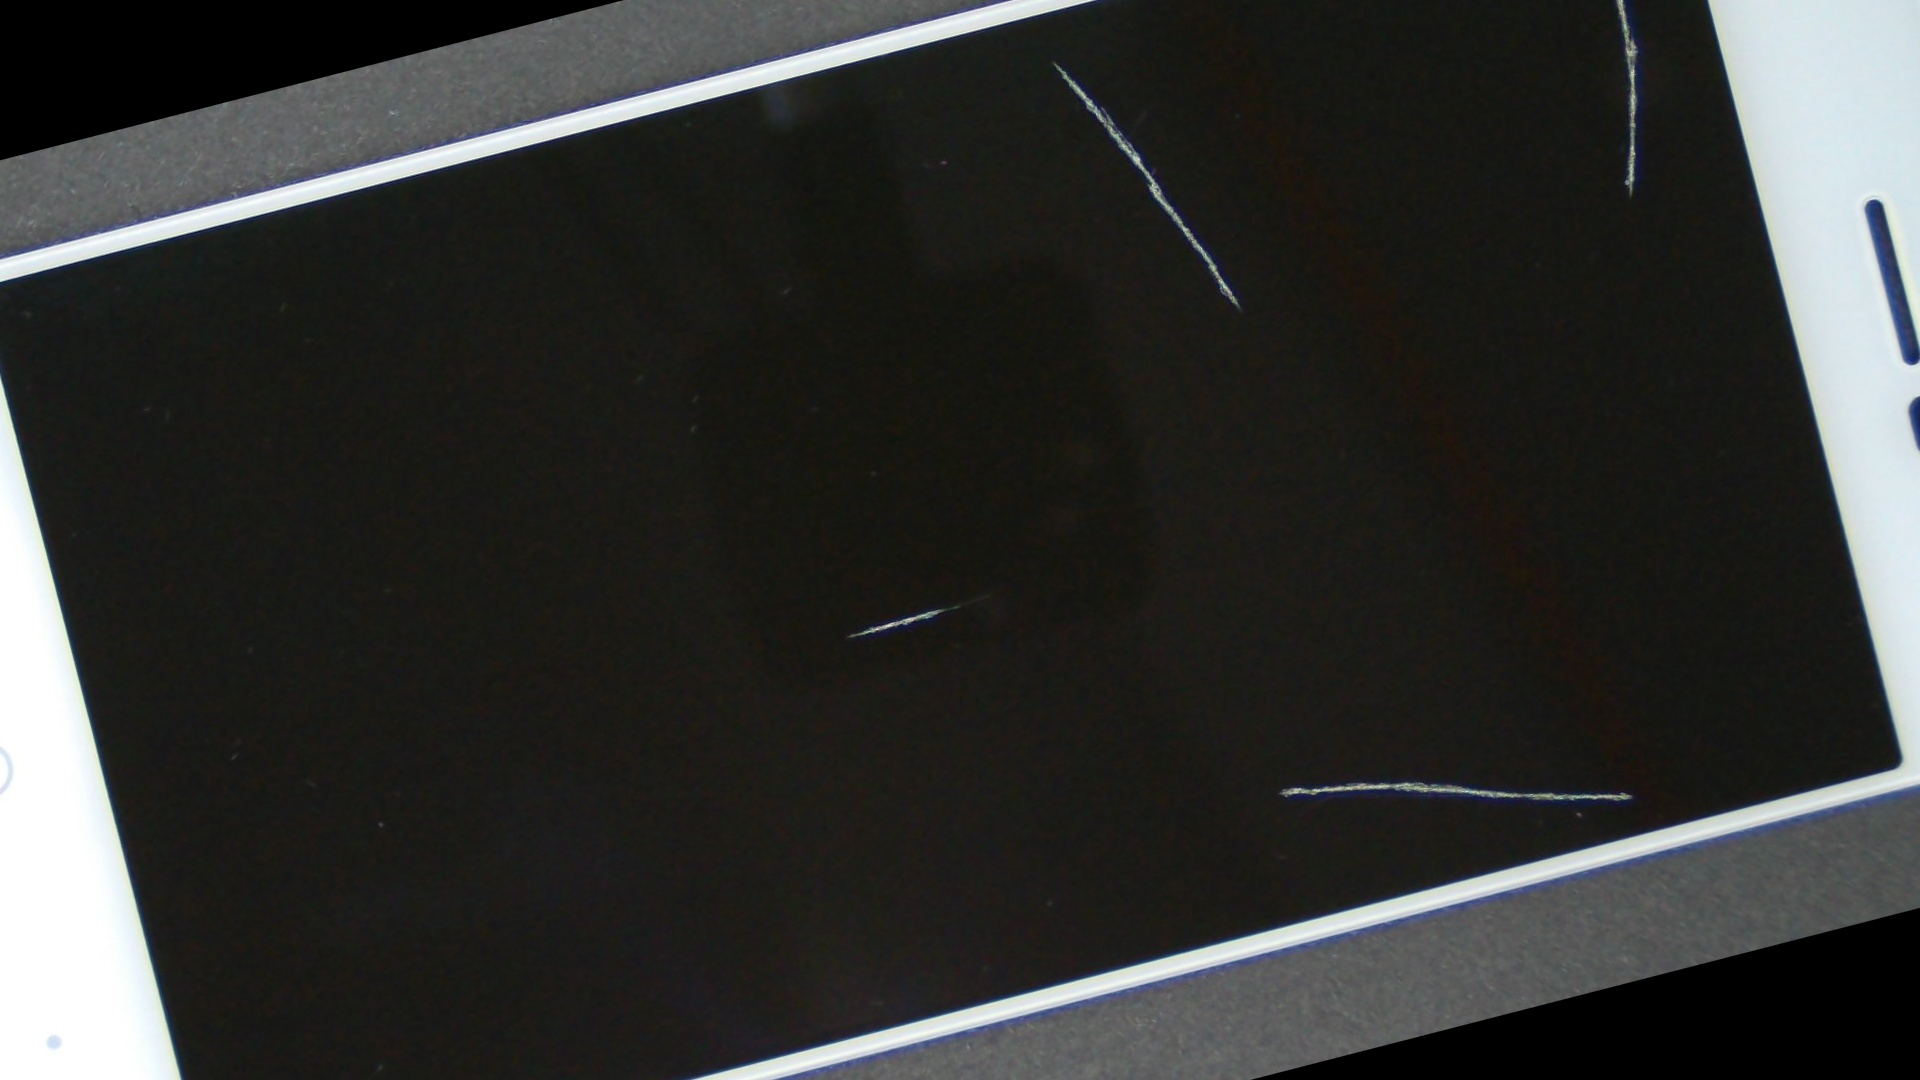oil: (492, 165, 1920, 1080), (305, 158, 1513, 1073), (376, 0, 1729, 310), (653, 0, 1920, 301), (0, 632, 400, 1080)
